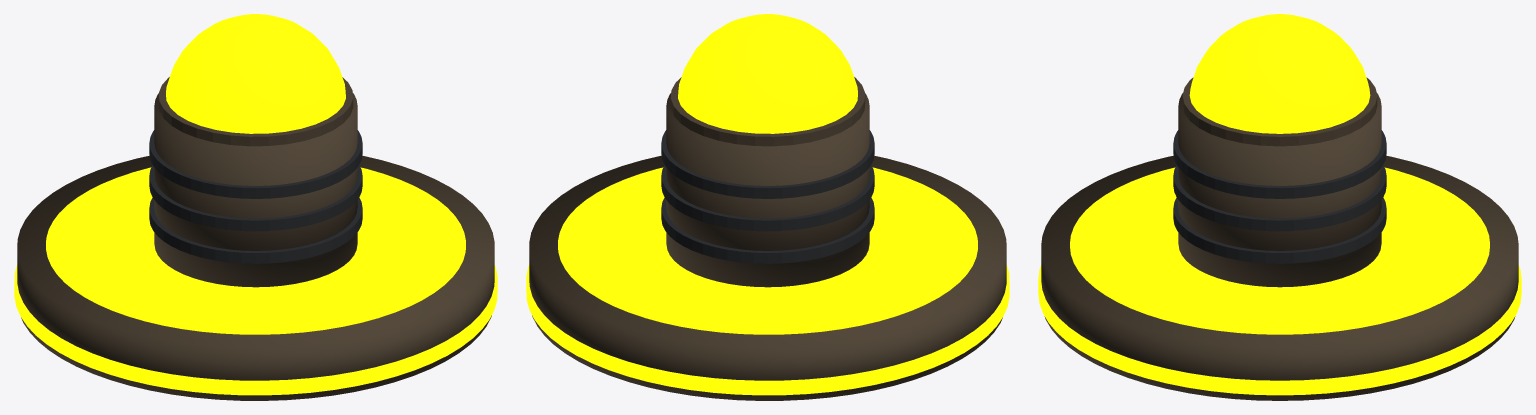
Rendered from rebatedor_gridiron_football_p2.glb.
The picture shows the model from 3 angles, left to right: view 1: azimuth 30°, elevation 25°; view 2: azimuth 150°, elevation 25°; view 3: azimuth 270°, elevation 25°; orthographic projection.
Visible parts, largest first — view 1: Cylinder.002, Cylinder, Cylinder.003, Sphere, Cylinder.001, Cylinder.006, Cylinder.004, Cylinder.005, Cylinder.007; view 2: Cylinder.002, Cylinder, Cylinder.003, Sphere, Cylinder.001, Cylinder.006, Cylinder.004, Cylinder.005, Cylinder.007; view 3: Cylinder.002, Cylinder, Cylinder.003, Sphere, Cylinder.001, Cylinder.006, Cylinder.004, Cylinder.005, Cylinder.007.
Part boxes in pixels (x1,y1,x2,y2): Cylinder.002: (46, 167, 465, 334); Cylinder: (17, 155, 494, 400); Cylinder.003: (154, 93, 357, 287); Sphere: (166, 14, 345, 133); Cylinder.001: (14, 264, 497, 395); Cylinder.006: (149, 130, 362, 198); Cylinder.004: (149, 197, 362, 263); Cylinder.005: (149, 165, 362, 231); Cylinder.007: (158, 77, 353, 146); Cylinder.002: (558, 167, 977, 334); Cylinder: (529, 155, 1006, 400); Cylinder.003: (666, 93, 869, 287); Sphere: (678, 14, 857, 133); Cylinder.001: (526, 264, 1009, 395); Cylinder.006: (661, 130, 874, 198); Cylinder.004: (661, 197, 874, 263); Cylinder.005: (661, 165, 874, 231); Cylinder.007: (670, 77, 865, 146); Cylinder.002: (1070, 167, 1489, 334); Cylinder: (1041, 155, 1518, 400); Cylinder.003: (1178, 93, 1381, 287); Sphere: (1189, 14, 1370, 133); Cylinder.001: (1038, 265, 1521, 395); Cylinder.006: (1173, 130, 1386, 198); Cylinder.004: (1173, 197, 1386, 263); Cylinder.005: (1173, 165, 1386, 231); Cylinder.007: (1182, 77, 1377, 146).
Bounding box in the file's own units: 0.1619 × 0.1032 × 0.1619.
